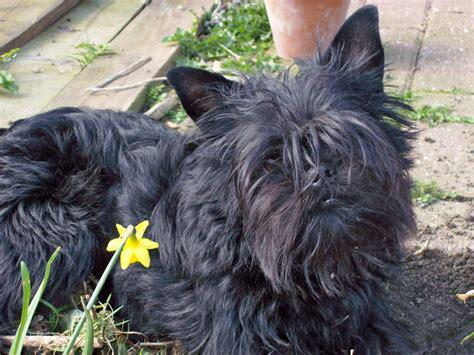dog: (1, 5, 409, 355)
